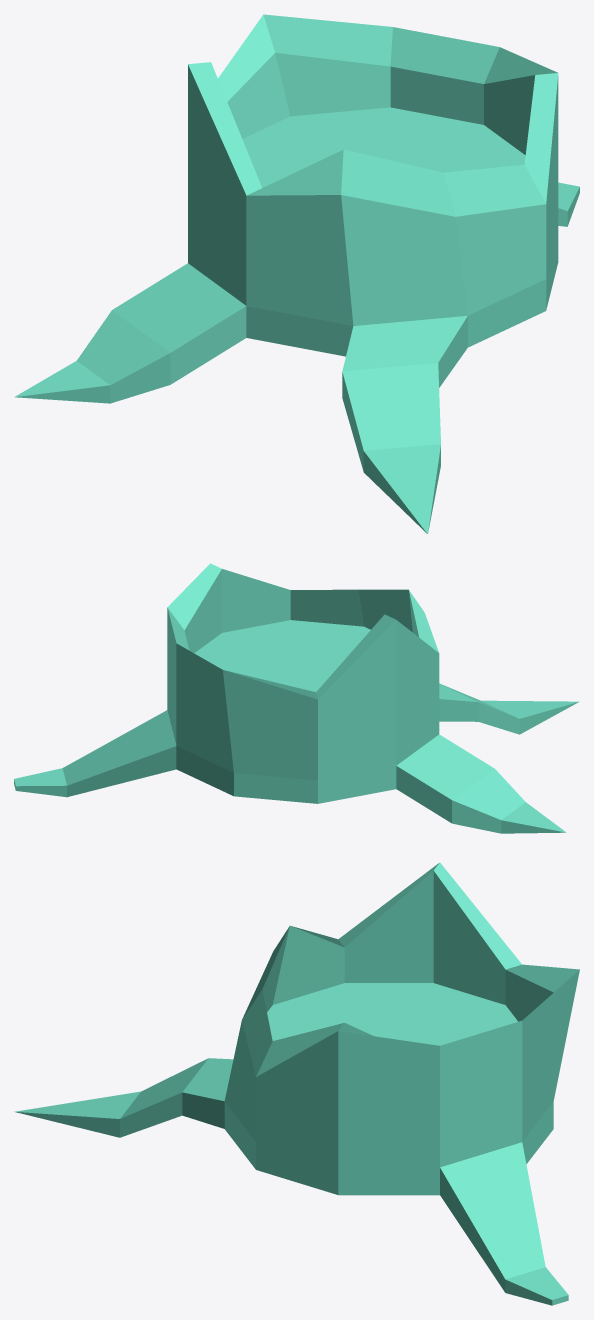
File: Toco de Madeira 2.fbx
The picture shows the model from 3 angles, top to bottom: view 1: azimuth 30°, elevation 25°; view 2: azimuth 150°, elevation 25°; view 3: azimuth 270°, elevation 25°; orthographic projection. The views are drawn at different scales.
Parts seen in each view (by area): view 1: Tronco 2; view 2: Tronco 2; view 3: Tronco 2.
Part boxes in pixels (box(x1,y1,x2,y2)): Tronco 2: box(14, 14, 579, 533); Tronco 2: box(14, 563, 579, 833); Tronco 2: box(14, 862, 579, 1305).
Size of the model in its own units: 108 by 45.87 by 92.69.
